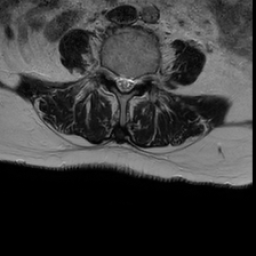CCS_stenosis: (122, 67, 127, 99)
LFS_normal: (135, 67, 145, 91)
LLS_normal: (127, 68, 135, 94)
RFS_normal: (107, 59, 114, 89)
RLS_normal: (114, 66, 122, 93)
